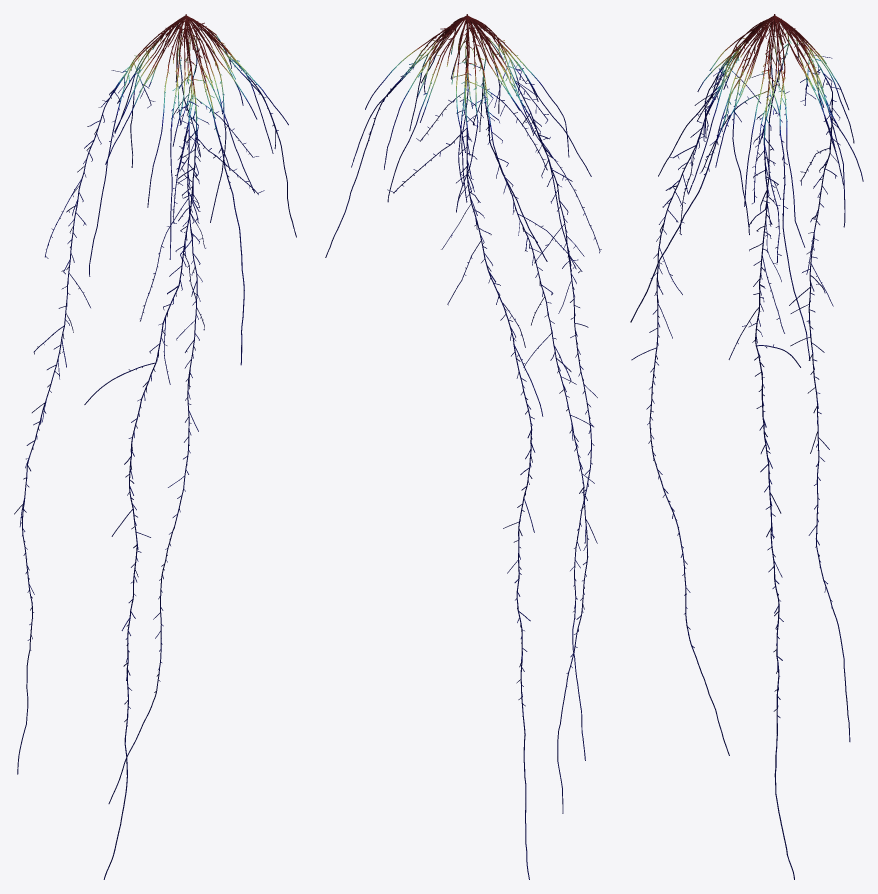
3 views of the same model, side by side, from view 1: azimuth 30°, elevation 25°; view 2: azimuth 150°, elevation 25°; view 3: azimuth 270°, elevation 25° (orthographic). The views are drawn at different scales.
Visible parts, largest first — view 1: Model_2200, Model_2176, Model_2152, Model_2128, Model_2104, Model_2080, Model_2056, Model_2032, Model_2008, Model_1984; view 2: Model_2200, Model_2176, Model_2152, Model_2128, Model_2104, Model_2080, Model_2056, Model_2032, Model_2008, Model_1984; view 3: Model_2200, Model_2176, Model_2152, Model_2128, Model_2104, Model_2080, Model_2056, Model_2032, Model_2008, Model_1984, Model_1960, Model_1936.
Boxes of the visible parts, x1,y1,x2,y2 form: Model_2200: (15,16,296,879); Model_2176: (17,15,294,866); Model_2152: (14,15,291,852); Model_2128: (14,18,289,836); Model_2104: (21,15,287,812); Model_2080: (22,17,287,804); Model_2056: (22,16,285,783); Model_2032: (23,18,283,756); Model_2008: (23,17,280,740); Model_1984: (22,16,274,712); Model_2200: (325,14,600,879); Model_2176: (329,14,599,864); Model_2152: (334,16,596,848); Model_2128: (339,17,601,832); Model_2104: (345,17,599,814); Model_2080: (350,17,598,794); Model_2056: (354,17,597,770); Model_2032: (360,16,599,753); Model_2008: (368,16,597,727); Model_1984: (374,16,597,702); Model_2200: (630,14,863,879); Model_2176: (636,14,860,867); Model_2152: (633,16,857,854); Model_2128: (632,17,851,838); Model_2104: (647,16,846,822); Model_2080: (631,17,845,802); Model_2056: (632,15,844,783); Model_2032: (645,18,841,747); Model_2008: (649,18,839,735); Model_1984: (650,16,837,697); Model_1960: (649,19,837,678); Model_1936: (650,14,835,635).
Bounding box in the file's own units: 0.2073 × 0.6113 × 0.1432.
1 material, 1 textured.
